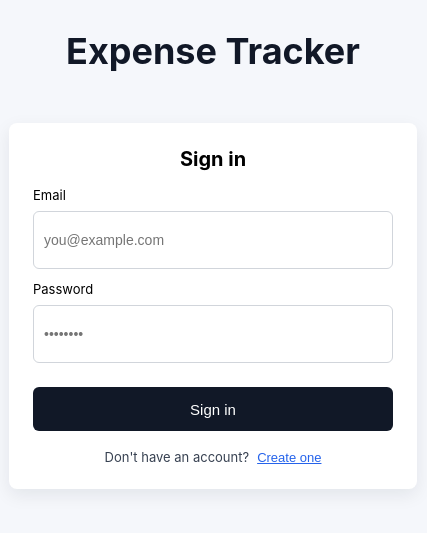
it: Login Component › Form Validation › should show error when password is empty
Type "test@example.com" into the field with placeholder "you@example.com" at (213, 240), box [33,211,393,269]
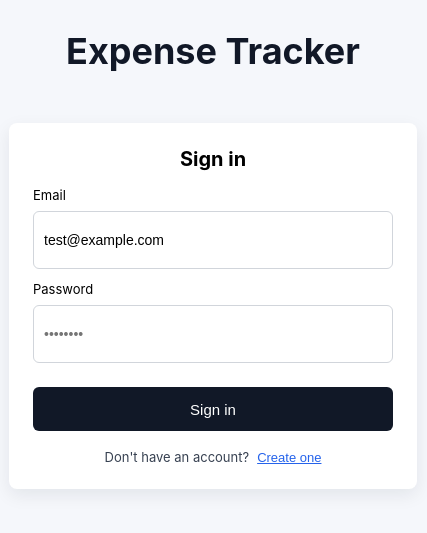
Click the button "Sign in" at (213, 409), box [33,387,393,431]
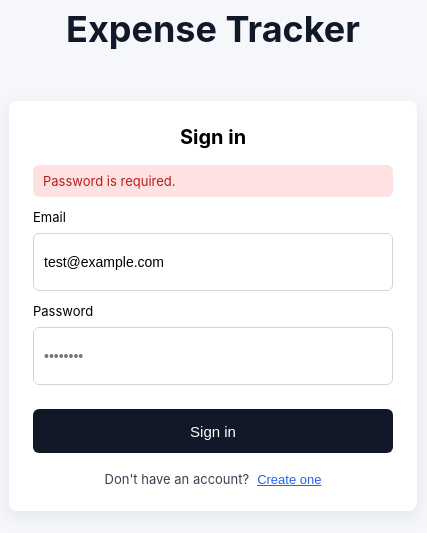
Result: the text "Password is required." is shown at [33,165,393,197]
